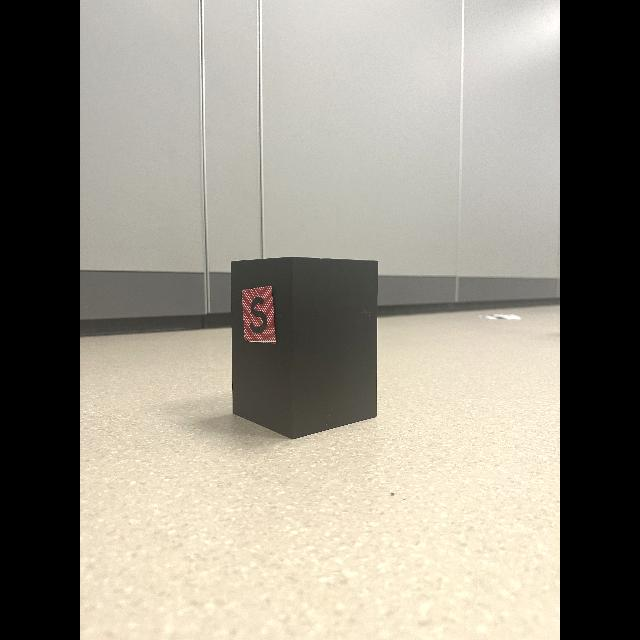S: (249, 296, 267, 333)
